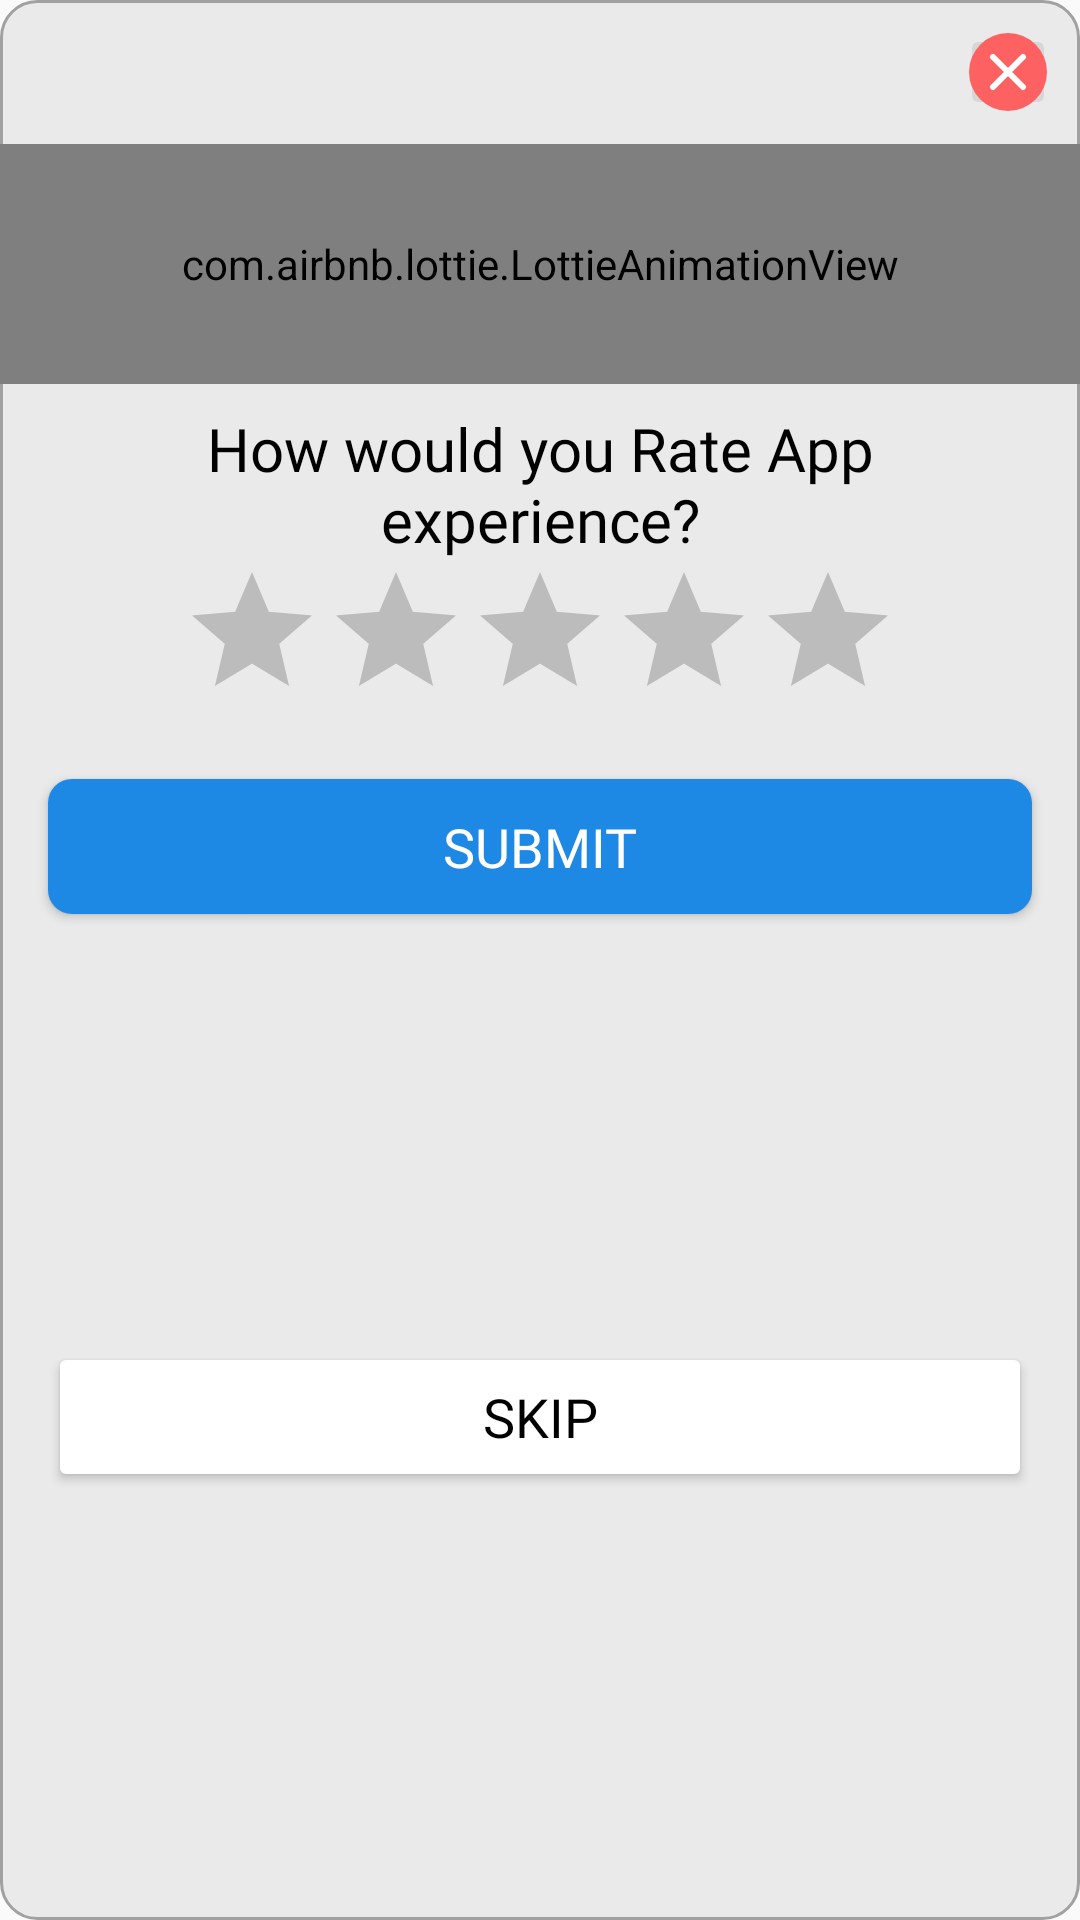

Icon click points for this 1080w x 1920h phone screenshot, format (x=x, y=y):
cancel: (x=1008, y=72)
